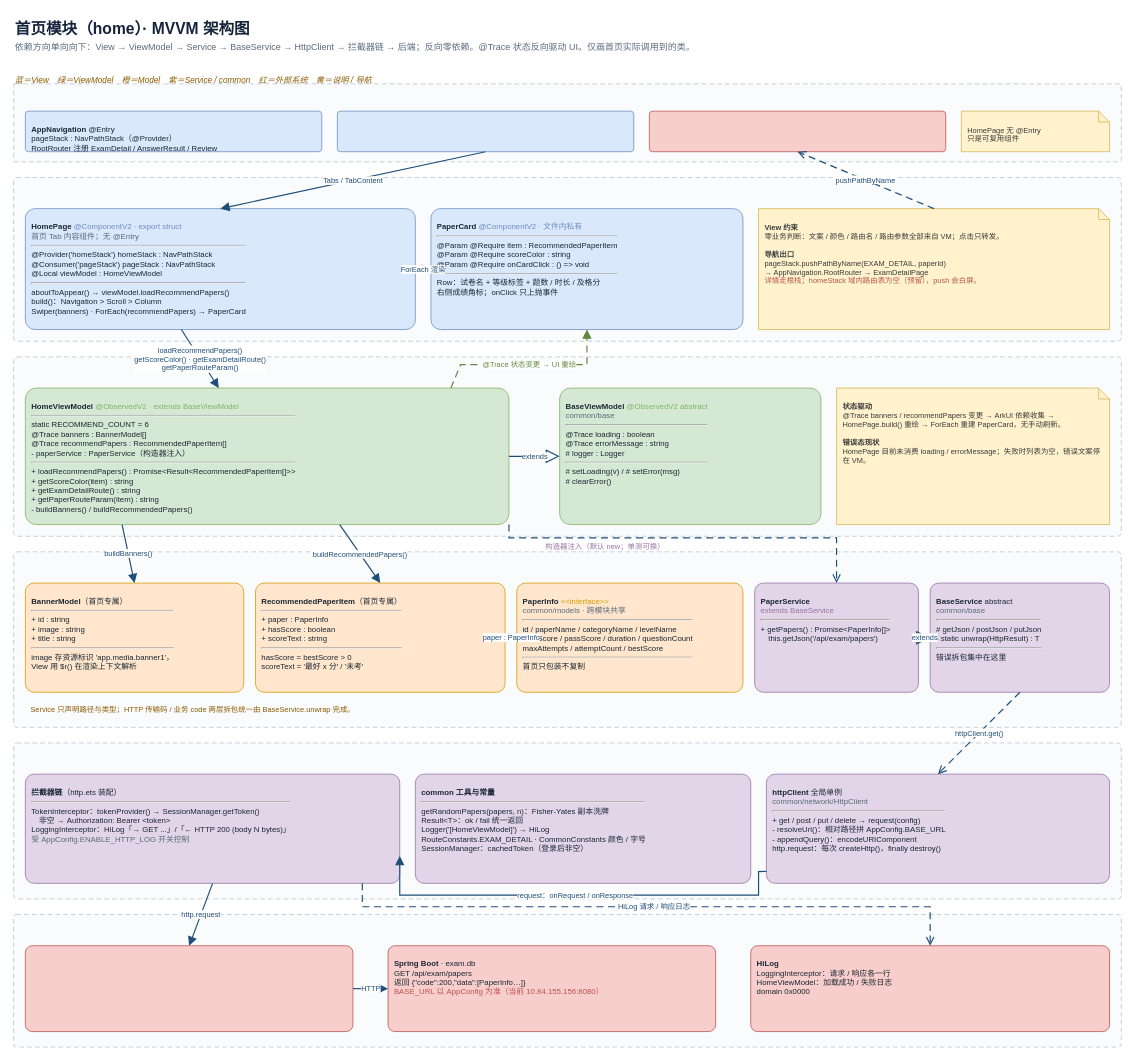
The diagram is 1135 pixels wide and 1061 high, and some of its shapes have lost their labels. Each missing label, with the box of its shape:
@kit.NetworkKit http.createHttp() connectTimeout / readTimeout = 10s 跨进程边界: (25, 945, 353, 1032)
ExamDetailPage （根栈目的地） 接收 paperId，进入考试详情 features/exam · 非首页模块: (649, 110, 946, 152)
MainPage @ComponentV2 Tabs：首页 / 刷题 / 我的 TabContent() { HomePage() }: (337, 110, 634, 152)
Model / Service 层 · features/home/model + features/exam/service + common/models: (13, 551, 1121, 727)
View 层 · entry/src/main/ets/features/home/view: (13, 177, 1121, 341)
ViewModel 层 · features/home/viewModel: (13, 356, 1121, 536)
基础设施 · common HAR（网络 / 会话 / 工具）: (13, 742, 1121, 899)
外部世界 · 进程外 / 系统能力: (13, 914, 1121, 1047)
装配上下文 （首页模块之外）: (13, 83, 1121, 162)
